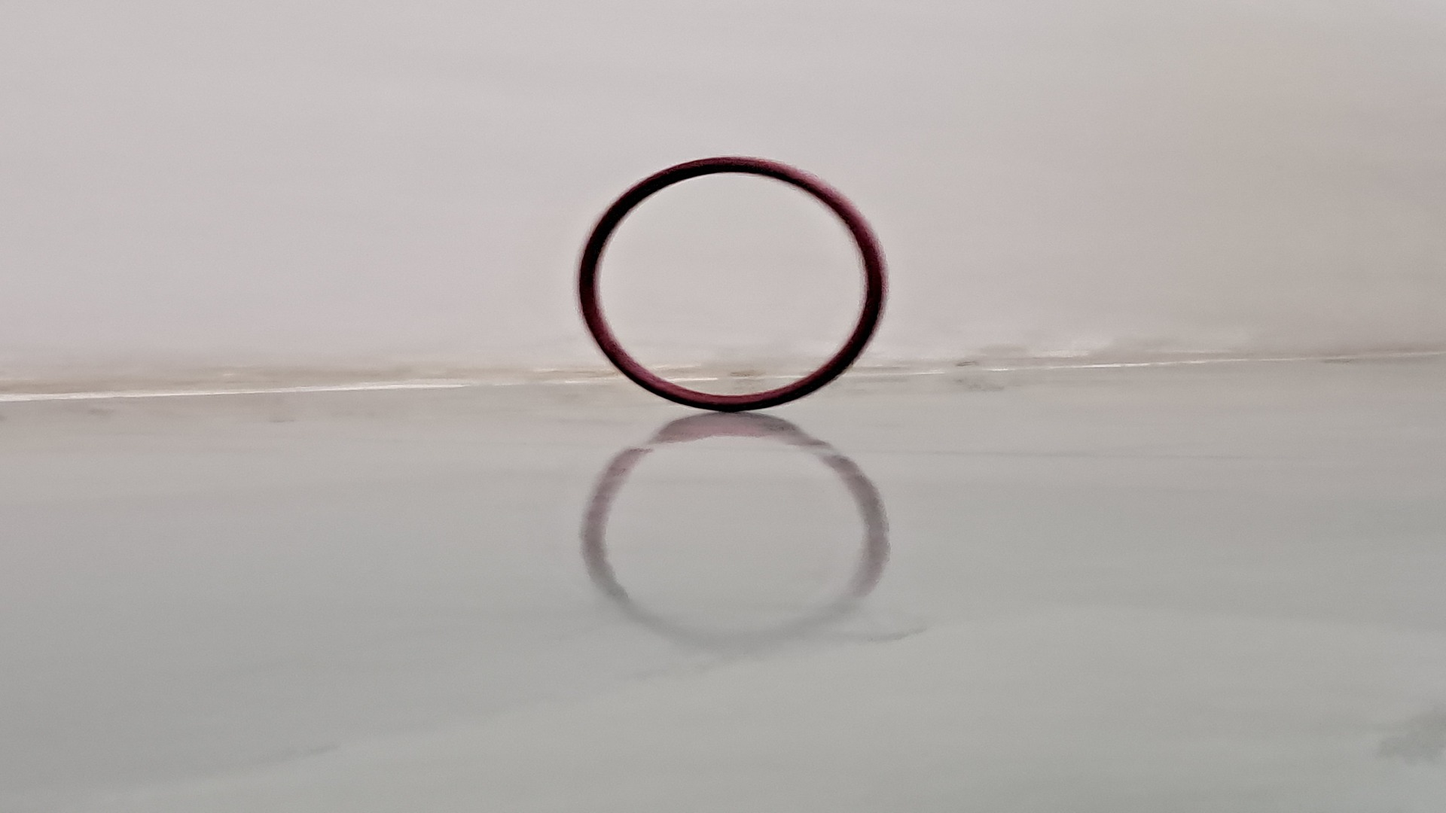Red ring: (575, 157, 886, 412)
